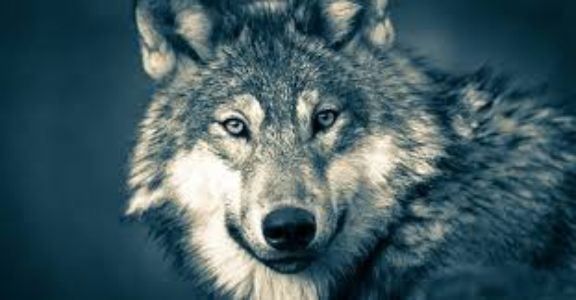wolf: (127, 3, 558, 283)
